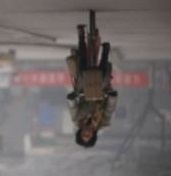person: (66, 23, 117, 148)
